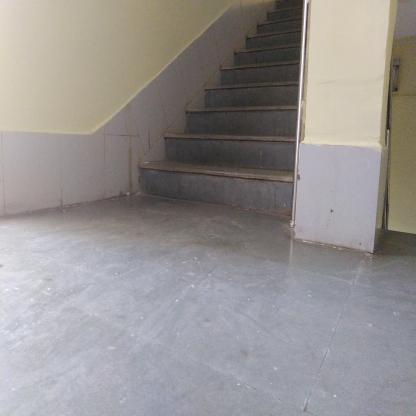stairs: (231, 46, 290, 216)
